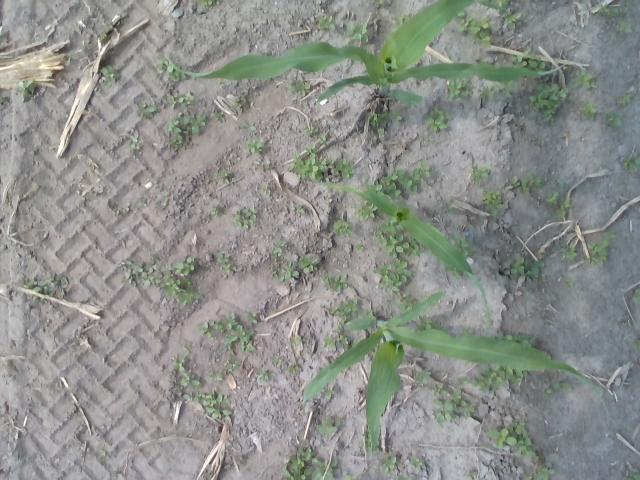Maize: (302, 291, 608, 456), (163, 0, 566, 105), (317, 181, 491, 326)
Weeds: (120, 254, 202, 306), (201, 312, 258, 355), (488, 420, 538, 460), (428, 382, 476, 423), (375, 218, 423, 258), (528, 84, 570, 122), (472, 366, 528, 394), (184, 386, 232, 418), (372, 260, 412, 294), (23, 273, 68, 301), (168, 114, 206, 146), (375, 169, 418, 196), (172, 355, 201, 393), (288, 155, 332, 180), (502, 256, 544, 282), (282, 447, 314, 480), (457, 17, 491, 48), (232, 202, 258, 230), (509, 51, 546, 70), (327, 300, 358, 321), (310, 457, 338, 480), (426, 108, 452, 132), (497, 332, 539, 346), (494, 80, 524, 98), (450, 79, 475, 100), (316, 416, 344, 434), (354, 202, 378, 222), (322, 274, 348, 292), (469, 166, 490, 188), (333, 158, 355, 179), (344, 22, 368, 40), (623, 152, 640, 176), (506, 176, 531, 192), (451, 233, 470, 254), (571, 70, 593, 88), (102, 64, 120, 86), (288, 78, 310, 96), (412, 161, 431, 180), (218, 253, 235, 274), (333, 219, 354, 236), (20, 80, 36, 102), (167, 63, 186, 81), (317, 14, 337, 31), (588, 240, 609, 256), (223, 356, 241, 374), (504, 11, 522, 29), (137, 102, 157, 118), (214, 168, 234, 184), (379, 455, 397, 472), (272, 243, 288, 262), (244, 138, 264, 153), (582, 103, 598, 120), (301, 254, 317, 271), (254, 370, 276, 382), (279, 269, 299, 282), (561, 246, 577, 262), (126, 134, 142, 150), (414, 370, 431, 385), (160, 93, 177, 108), (605, 113, 623, 127), (489, 200, 504, 216), (394, 12, 409, 28), (368, 113, 386, 126), (483, 190, 501, 203), (536, 467, 554, 480), (152, 55, 168, 69), (178, 92, 194, 106), (398, 300, 416, 312), (302, 124, 320, 136), (529, 172, 543, 187), (478, 85, 494, 98), (302, 143, 316, 157), (553, 382, 572, 392), (546, 192, 559, 206), (618, 20, 632, 33), (618, 94, 632, 106), (324, 334, 336, 348), (419, 316, 431, 330), (241, 122, 257, 132), (627, 468, 640, 480), (445, 199, 456, 213), (371, 0, 392, 7), (455, 377, 471, 386), (558, 198, 572, 208), (362, 310, 377, 319), (555, 206, 566, 218), (604, 229, 616, 240), (162, 191, 170, 207), (286, 363, 298, 373), (632, 288, 640, 302), (389, 113, 402, 121), (476, 53, 486, 63), (598, 256, 608, 266), (542, 388, 552, 398), (412, 457, 422, 467), (212, 372, 222, 382), (463, 326, 473, 336), (622, 0, 630, 12), (586, 258, 598, 266), (274, 354, 282, 366), (396, 292, 408, 300), (211, 110, 223, 118), (230, 102, 246, 108), (292, 336, 300, 347), (424, 138, 434, 146), (556, 178, 564, 188), (565, 279, 575, 287), (468, 471, 478, 479), (324, 388, 334, 396), (183, 344, 191, 354), (294, 205, 304, 213), (319, 134, 327, 144), (270, 268, 278, 277), (211, 207, 219, 216), (598, 4, 608, 11), (522, 473, 532, 480), (341, 337, 349, 345), (286, 260, 294, 268), (262, 186, 270, 194), (113, 208, 122, 215), (634, 340, 640, 350), (202, 0, 212, 6), (496, 0, 506, 6), (356, 243, 364, 250), (346, 475, 356, 480), (126, 202, 131, 212), (608, 10, 616, 16), (238, 94, 244, 101), (378, 128, 386, 133), (457, 11, 465, 16), (220, 82, 226, 88), (138, 201, 144, 206), (264, 164, 270, 169)
